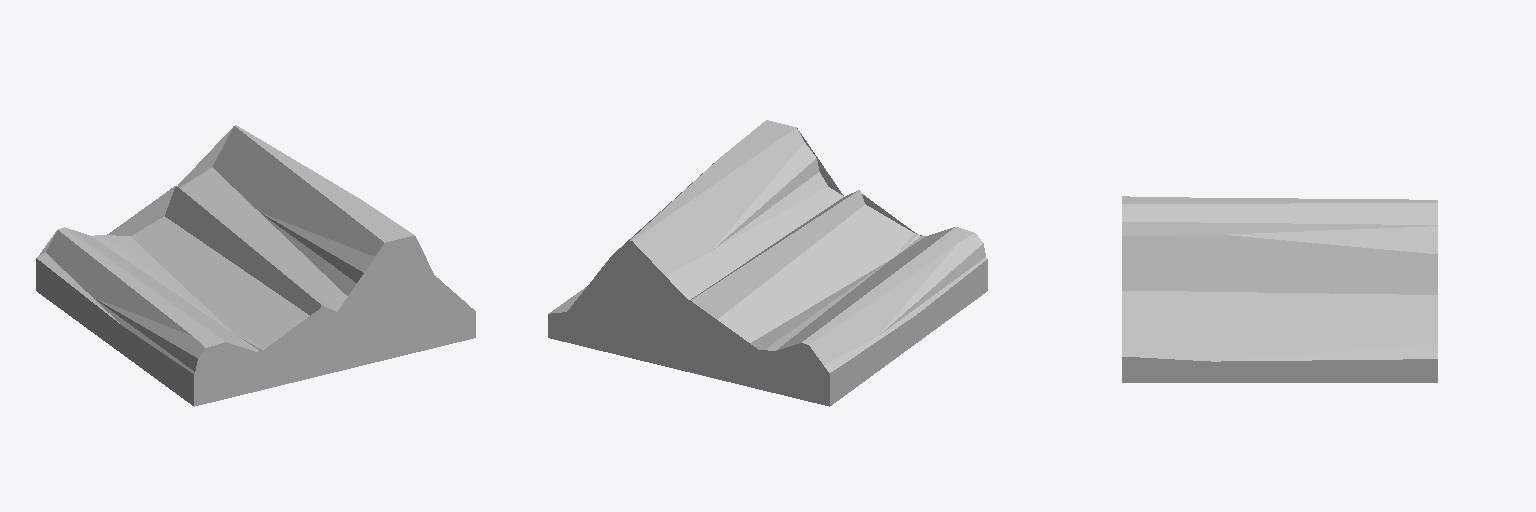
File: StraightWall1.obj
The picture shows the model from 3 angles: view 1: azimuth 30°, elevation 25°; view 2: azimuth 150°, elevation 25°; view 3: azimuth 270°, elevation 25°; orthographic projection.
Parts seen in each view (by area): view 1: polySurface831; view 2: polySurface831; view 3: polySurface831.
Boxes of the visible parts, x1,y1,x2,y2 form: polySurface831: [36, 125, 475, 406]; polySurface831: [548, 120, 987, 406]; polySurface831: [1122, 196, 1437, 382].
Size of the model in its own units: 0.9703 by 0.3868 by 0.9408.